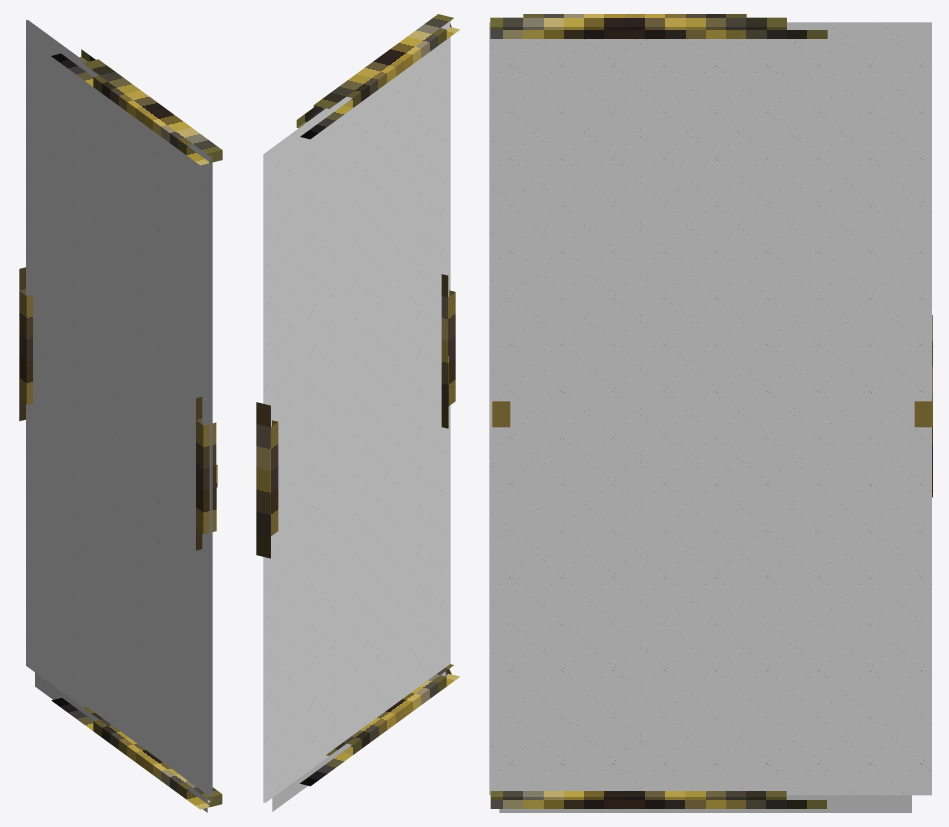
The picture shows the model from 3 angles, left to right: view 1: azimuth 30°, elevation 25°; view 2: azimuth 150°, elevation 25°; view 3: azimuth 270°, elevation 25°; orthographic projection. The views are drawn at different scales.
Parts seen in each view (by area): view 1: Box11, Object02; view 2: Box11, Object02; view 3: Box11, Object02.
Part boxes in pixels (x1,y1,x2,y2): Box11: [19, 19, 222, 809]; Object02: [35, 672, 207, 812]; Box11: [256, 14, 460, 802]; Object02: [272, 671, 445, 811]; Box11: [489, 14, 932, 808]; Object02: [499, 795, 911, 812].
Bounding box in the file's own units: 3.63 × 52.82 × 104.
